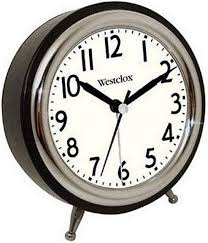alarm_clock: (2, 1, 203, 237)
